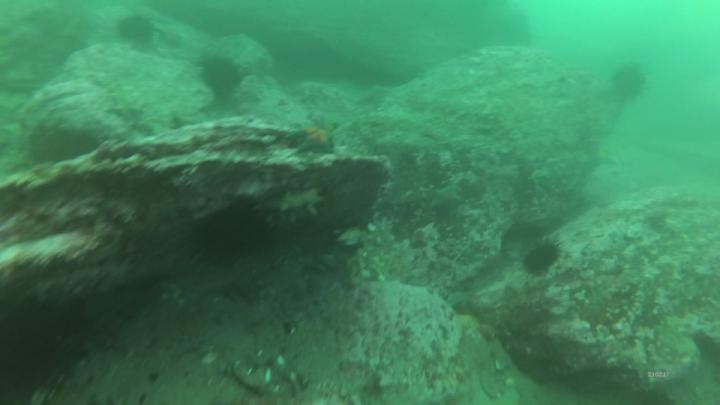echinus: (204, 216, 269, 262), (527, 243, 560, 275), (617, 65, 646, 99), (205, 63, 240, 91), (120, 18, 154, 42)
holothurian: (272, 191, 325, 221)
starfish: (299, 124, 334, 154), (431, 187, 465, 211)
